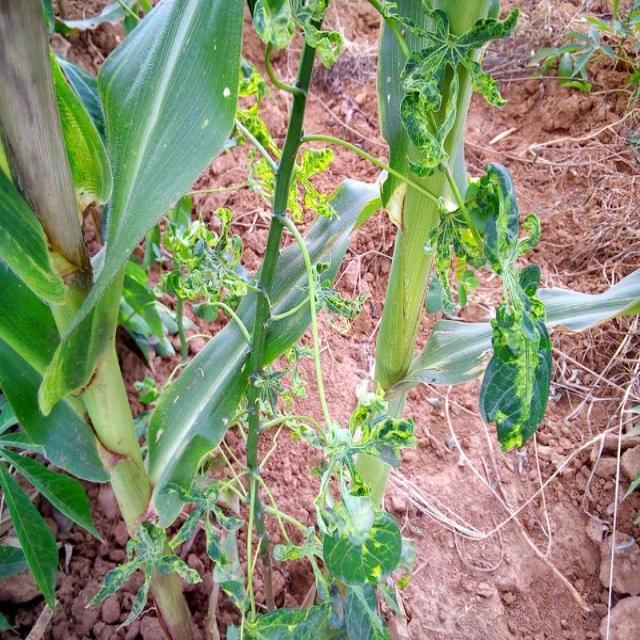cassava leaf: (35, 0, 246, 419), (143, 174, 384, 529)
